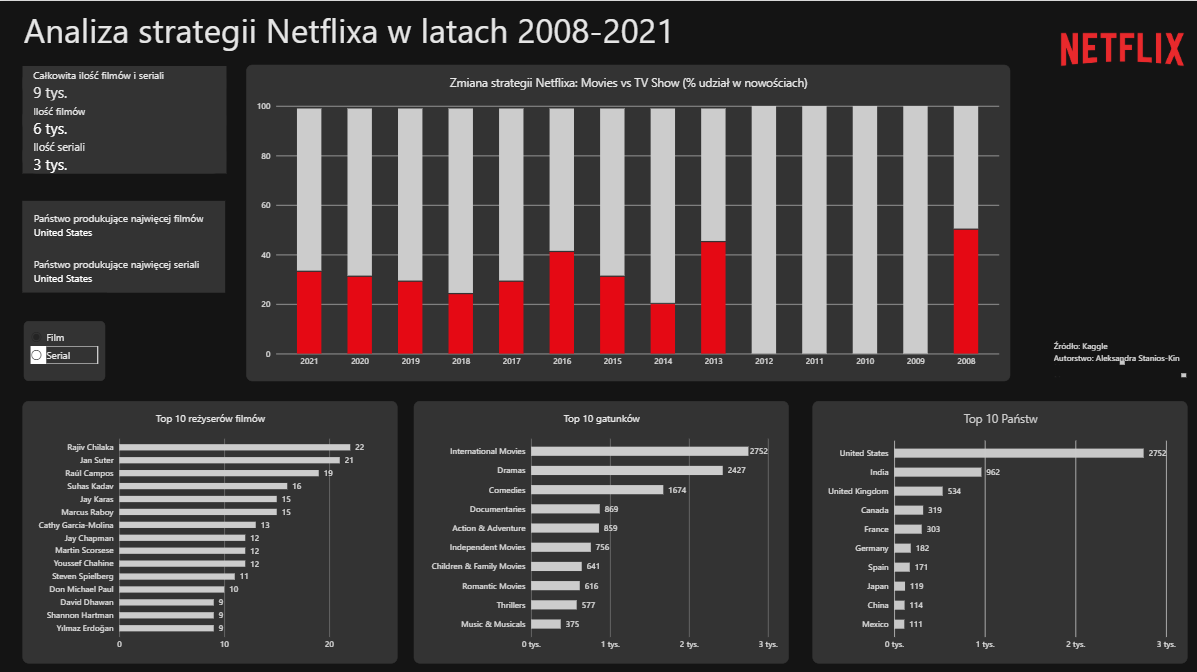

Layout of this report page (visuals, bound fields, positions):
{"tool":"powerbi","page":{"name":"Daschboard","canvas":[1920,1080],"ordinal":0},"visuals":[{"type":"image","box":[1672,0,247.9,155.6],"z":0},{"type":"textbox","title":"Analiza strategii Netflixa w latach 2008-2021","box":[38,10,1882,82],"z":1000},{"type":"textbox","box":[38,997.5,601,150],"z":2000},{"type":"cardVisual","fields":{"Data":["Sum(ILOSC_FILMOW.ilosc_calkowita)","Sum(ILOSC_FILMOW.ilosc_filmow)","Sum(ILOSC_FILMOW.ilosc_seriali)"]},"box":[36,104,326,172],"z":3000},{"type":"clusteredBarChart","title":"Top 10 gatunków","fields":{"Category":["gatunki filmów z podziałem film i serial.genres"],"Series":["gatunki filmów z podziałem film i serial.type"],"Y":["Sum(gatunki filmów z podziałem film i serial.total_sum)"]},"box":[662,640,600,420],"z":4000},{"type":"clusteredBarChart","title":"Top 10 reżyserów filmów","fields":{"Category":["top 15 rezyserów.director_name"],"Y":["Sum(top 15 rezyserów.movies_count)"]},"box":[36,640,600,420],"z":5000},{"type":"clusteredBarChart","title":"Top 10 Państw","fields":{"Category":["top 10 państw.country_name"],"Series":["top 10 państw.type"],"Y":["Sum(top 10 państw.country_total)"]},"box":[1300,640,600,420],"z":6000},{"type":"cardVisual","fields":{"Data":["Min(top 15 państw.country_name)","Min(top 10 państw.country_name)"]},"box":[36,319,324,146],"z":7000},{"type":"actionButton","box":[0,0,100,40],"z":8000},{"type":"textbox","title":"Źródło: Kaggle","box":[1685.3,541.3,113.3,40],"z":11000},{"type":"textbox","title":"Autorstwo: Aleksandra Stanios-Kin","box":[1685.3,561.3,211.7,40],"z":12000},{"type":"columnChart","title":"Zmiana strategii Netflixa: Movies vs TV Show (% udział w nowościach)","fields":{"Category":["film serial w latach (2).addition_year"],"Y":["Sum(film serial w latach (2).TV Show)","Sum(film serial w latach (2).movies_percent)"]},"box":[394,102,1222,506],"z":13000},{"type":"listSlicer","fields":{"Values":["Slownik_type.Słownik_type"]},"box":[38,512,130,96],"z":13001}]}

Visuals, with their boxes in screenshot pixels (x1, y1, x2, y2), scaled from the page's 1920x1080 canvas onto the 1197x672 screenshot:
image: locate(1042, 0, 1196, 97)
"Analiza strategii Netflixa w latach 2008-2021" textbox: locate(24, 6, 1196, 57)
textbox: locate(24, 621, 398, 671)
cardVisual - Sum(ILOSC_FILMOW.ilosc_calkowita) x Sum(ILOSC_FILMOW.ilosc_filmow): locate(22, 65, 226, 172)
"Top 10 gatunków" clusteredBarChart: locate(413, 398, 787, 660)
"Top 10 reżyserów filmów" clusteredBarChart: locate(22, 398, 397, 660)
"Top 10 Państw" clusteredBarChart: locate(810, 398, 1185, 660)
cardVisual - Min(top 15 państw.country_name) x Min(top 10 państw.country_name): locate(22, 198, 224, 289)
actionButton: locate(0, 0, 62, 25)
"Źródło: Kaggle" textbox: locate(1051, 337, 1121, 362)
"Autorstwo: Aleksandra Stanios-Kin" textbox: locate(1051, 349, 1183, 374)
"Zmiana strategii Netflixa: Movies vs TV Show (% udział w nowościach)" columnChart: locate(246, 63, 1007, 378)
listSlicer - Slownik_type.Słownik_type: locate(24, 319, 105, 378)
